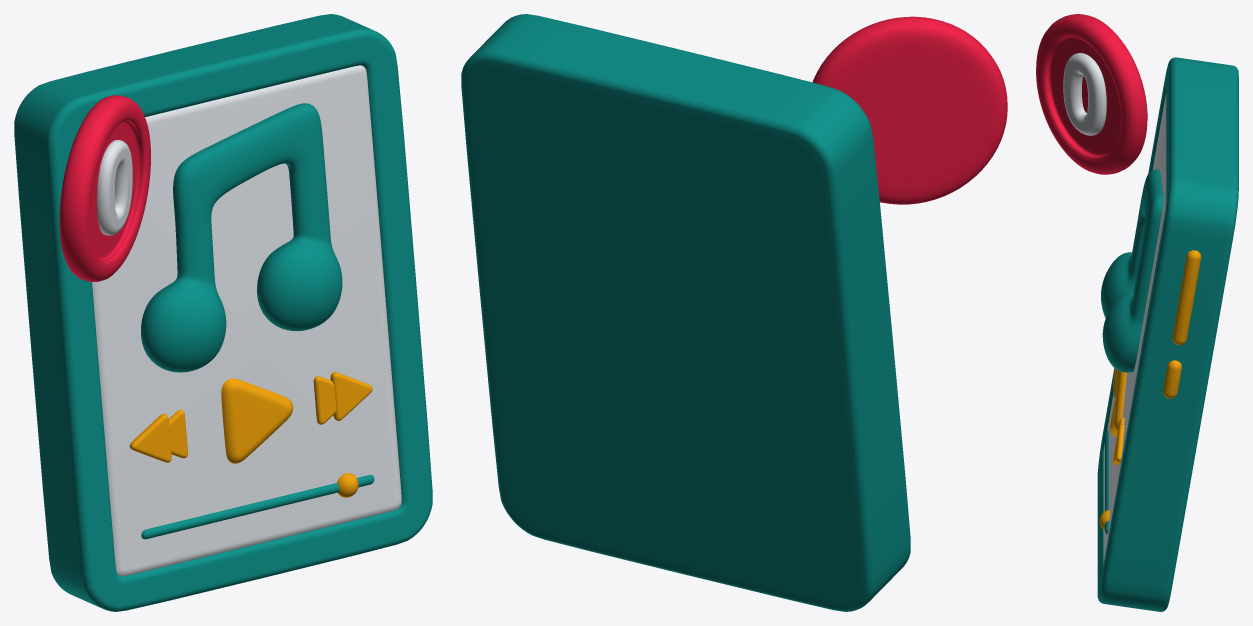
The model's file is empty-music-player-3d-animated-icon-409854663516.glb.
3 renders of one model, left to right at view 1: azimuth 30°, elevation 25°; view 2: azimuth 150°, elevation 25°; view 3: azimuth 270°, elevation 25°, orthographic. The views are drawn at different scales.
Parts seen in each view (by area): view 1: Plane.003, Music Player, Cube, X SIGN, Plane.002, Plane.001, Text, Cylinder; view 2: Music Player, X SIGN; view 3: Music Player, X SIGN, Cube, Plane.003, Text, Cylinder.001, Plane.001, Plane.002, Cylinder.
Part boxes in pixels (box(x1,y1,x2,y2)): Plane.003: box(92, 65, 401, 576); Music Player: box(14, 14, 432, 611); Cube: box(141, 103, 342, 372); X SIGN: box(59, 95, 150, 281); Plane.002: box(129, 372, 372, 462); Plane.001: box(221, 378, 293, 463); Text: box(97, 140, 132, 235); Cylinder: box(141, 475, 374, 539); Music Player: box(461, 14, 910, 611); X SIGN: box(812, 16, 1007, 204); Music Player: box(1097, 57, 1238, 611); X SIGN: box(1036, 14, 1147, 174); Cube: box(1101, 169, 1163, 372); Plane.003: box(1103, 94, 1166, 562); Text: box(1063, 53, 1106, 135); Cylinder.001: box(1163, 250, 1201, 398); Plane.001: box(1110, 371, 1126, 437); Plane.002: box(1113, 368, 1124, 464); Cylinder: box(1105, 430, 1108, 534).
Bounding box in the file's own units: 1.03 × 1.26 × 0.5001.
